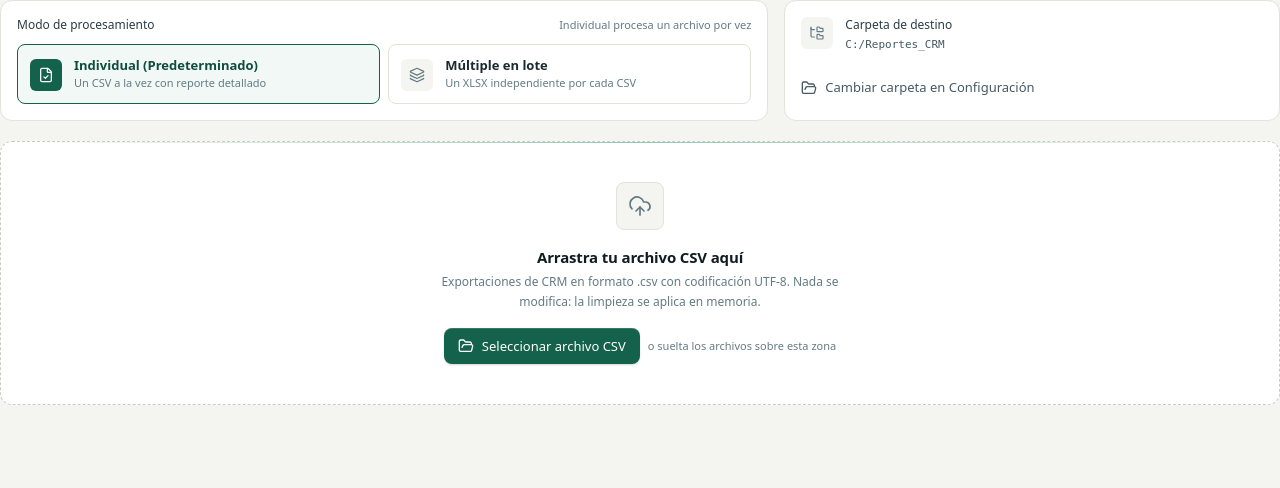
HomeScreen (Phase 4 Import and Modes) › displays error message when validation fails
Click the button "Seleccionar archivo CSV": (542, 346) [444, 328, 640, 364]
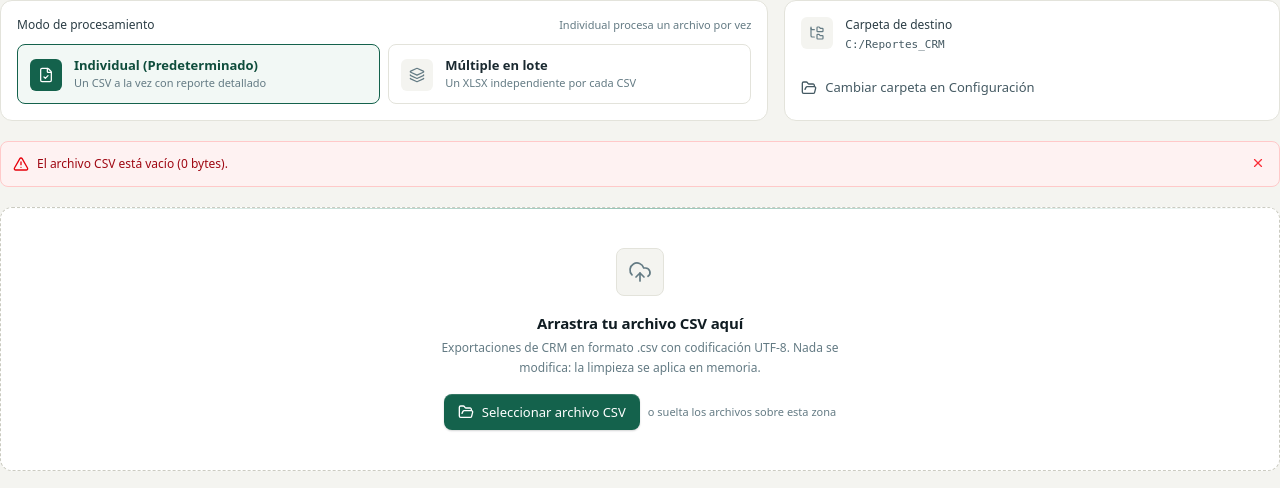
Expected: the text "El archivo CSV está vacío (0 bytes)." is shown, [37, 154, 228, 174]
